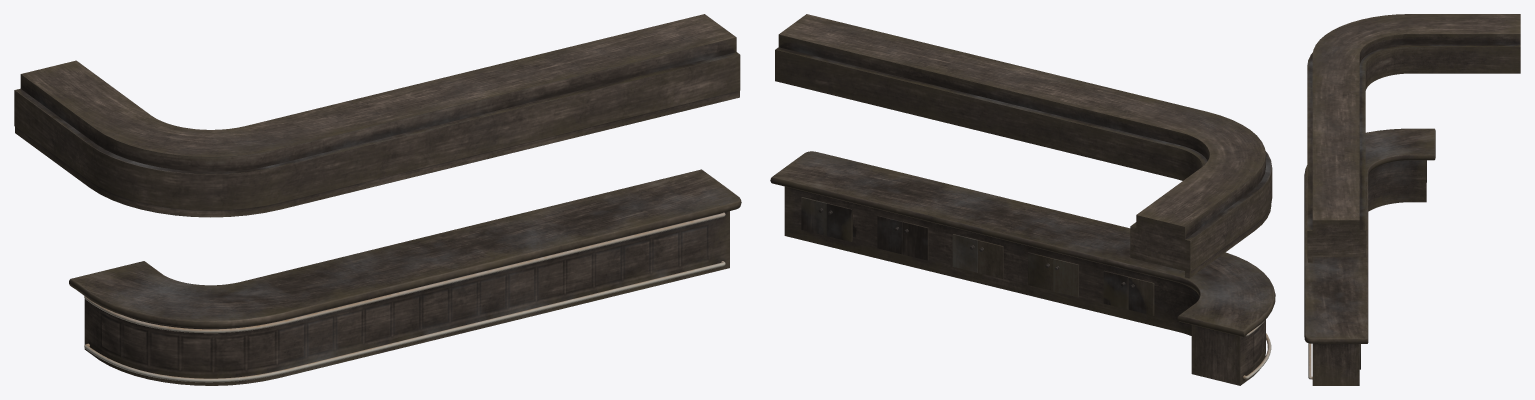
File: barcounter_-_8192px2.glb
3 views of the same model, side by side, from view 1: azimuth 30°, elevation 25°; view 2: azimuth 150°, elevation 25°; view 3: azimuth 270°, elevation 25° (orthographic). The views are drawn at different scales.
Parts seen in each view (by area): view 1: BarCounter; view 2: BarCounter, BarCounter_Door5R, BarCounter_Door1R, BarCounter_Door2R, BarCounter_Door2L, BarCounter_Door4R, BarCounter_Door5L, BarCounter_Door1L, BarCounter_Door3L, BarCounter_Door3R, BarCounter_Door4L; view 3: BarCounter.
Part boxes in pixels (x1,y1,x2,y2): BarCounter: (14,14,741,385); BarCounter: (770,14,1275,385); BarCounter_Door5R: (1128,277,1154,315); BarCounter_Door1R: (826,203,852,241); BarCounter_Door2R: (902,221,928,260); BarCounter_Door2L: (877,215,902,254); BarCounter_Door4R: (1053,258,1078,297); BarCounter_Door5L: (1103,270,1128,309); BarCounter_Door1L: (801,197,826,235); BarCounter_Door3L: (952,234,977,272); BarCounter_Door3R: (978,240,1003,278); BarCounter_Door4L: (1028,252,1053,290); BarCounter: (1304,14,1520,385).
Bounding box in the file's own units: 8.54 × 3.18 × 3.7.
Materials: 1 (1 with a texture image).
